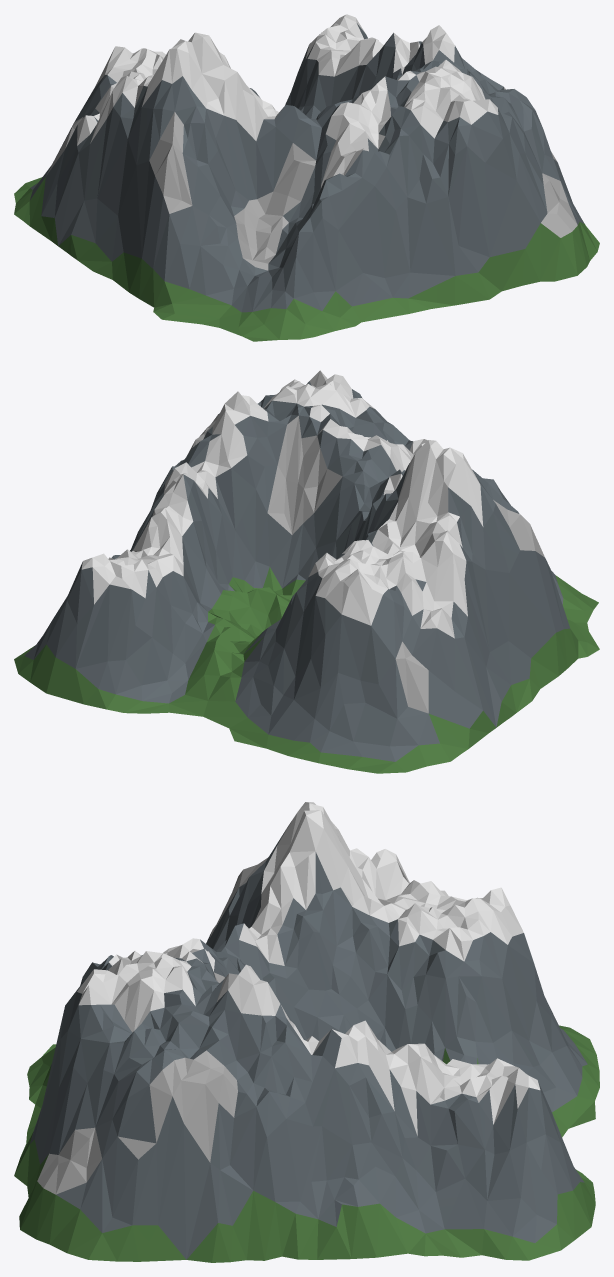
Rendered from SM_Env_Mounting_02.fbx.
The picture shows the model from 3 angles, top to bottom: view 1: azimuth 30°, elevation 25°; view 2: azimuth 150°, elevation 25°; view 3: azimuth 270°, elevation 25°; orthographic projection. The views are drawn at different scales.
Parts seen in each view (by area): view 1: SM_Env_Mounting_02; view 2: SM_Env_Mounting_02; view 3: SM_Env_Mounting_02.
Boxes of the visible parts, x1,y1,x2,y2 form: SM_Env_Mounting_02: (14,14,599,341); SM_Env_Mounting_02: (14,370,599,773); SM_Env_Mounting_02: (14,802,599,1262).
Size of the model in its own units: 1974 by 1970 by 983.
